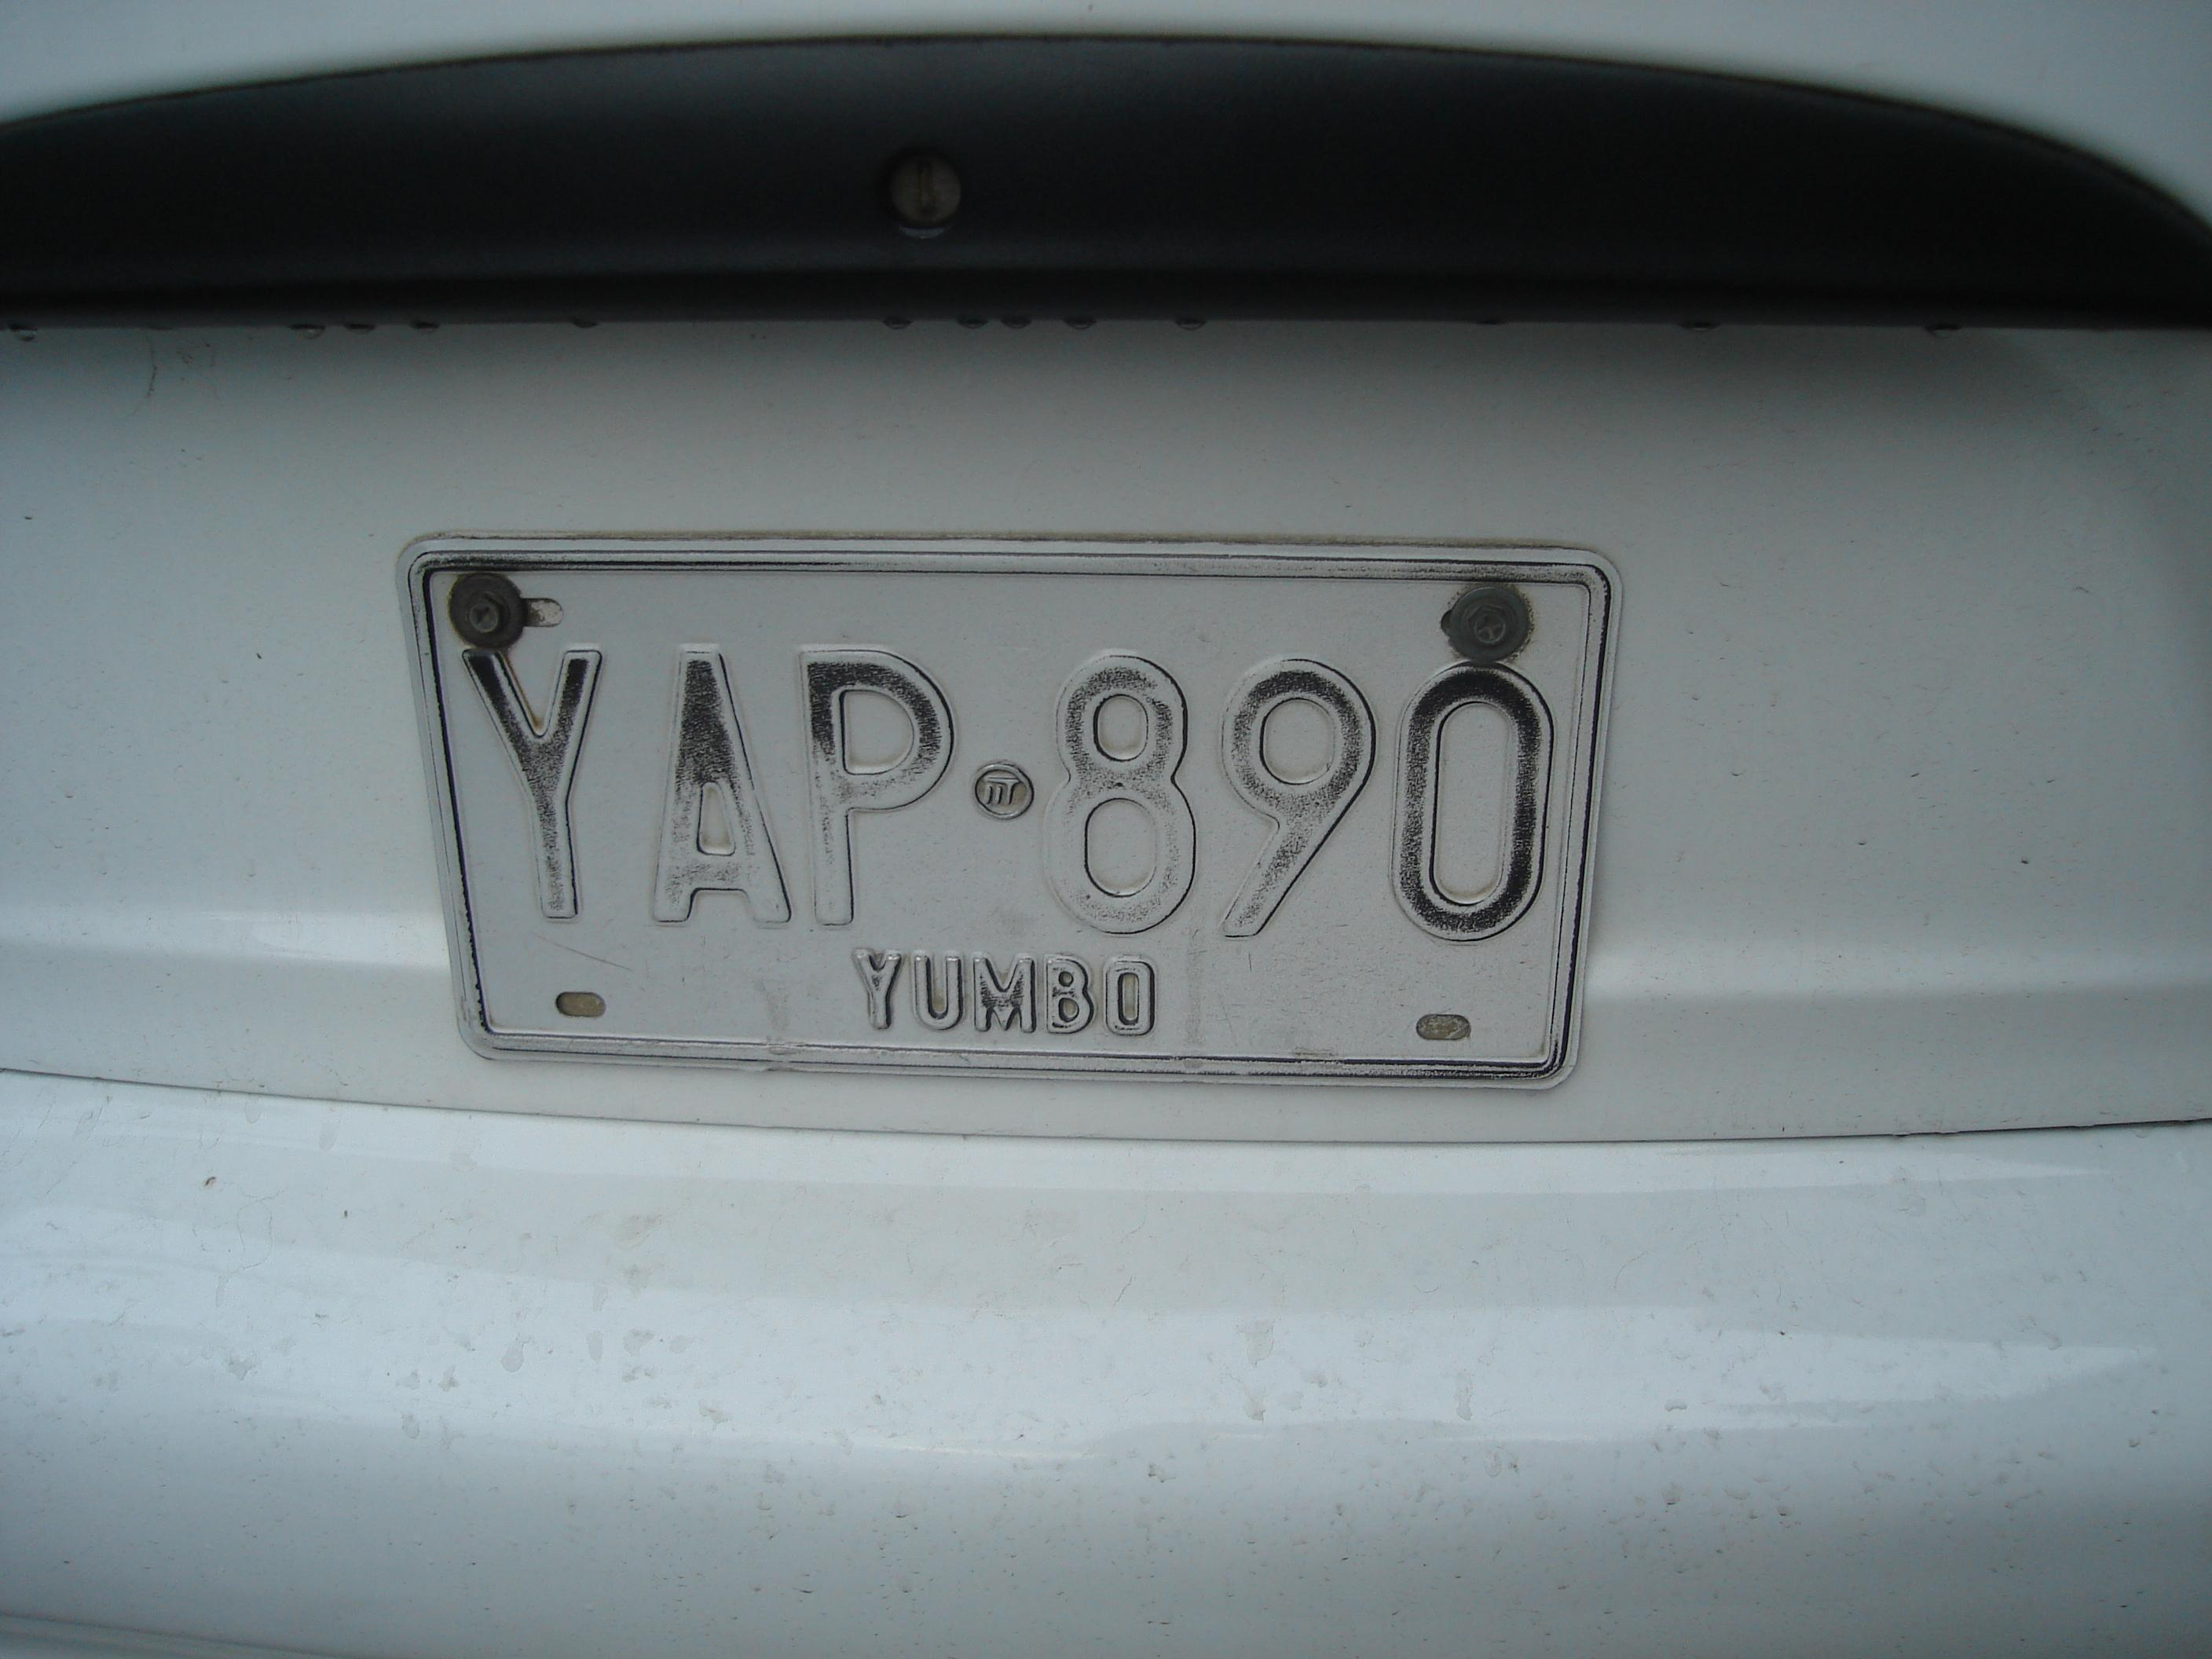placas: (383, 511, 1634, 1095)
